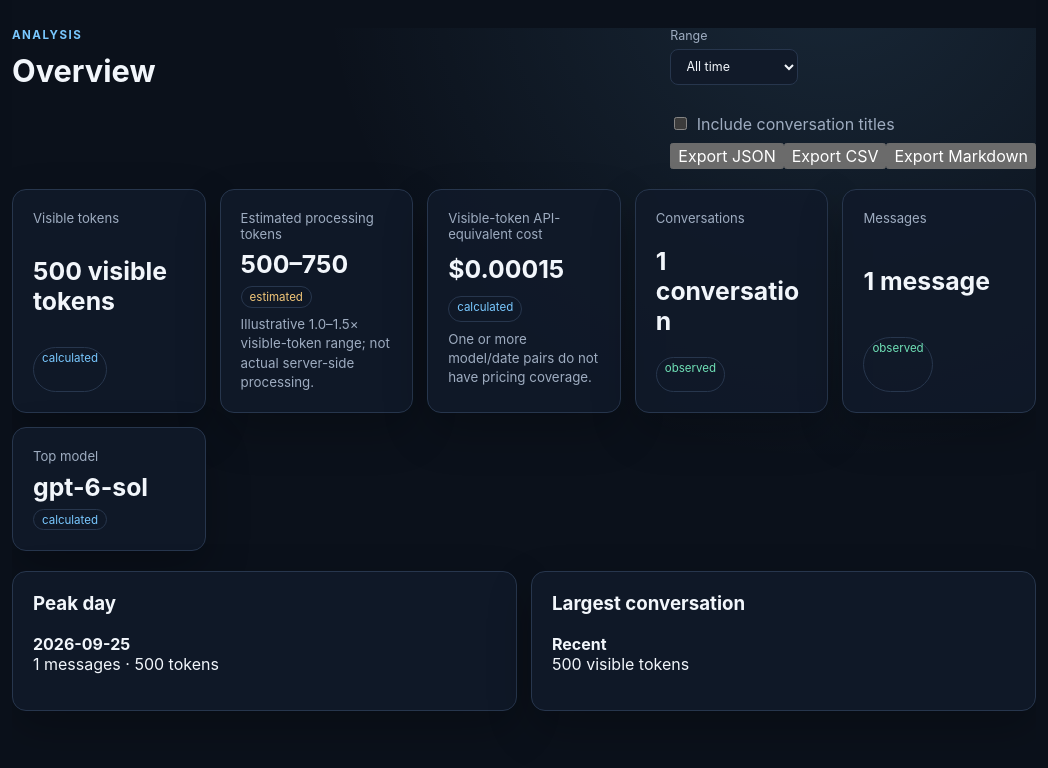
it: Codex review UI regressions › uses the selected date range when choosing the Overview top model
Expected: the text "gpt-6-sol" is shown, [33,472,148,502]
Select "7 days" in the dropdown named "Date range" at coordinates (734, 67), box [670,49,798,85]
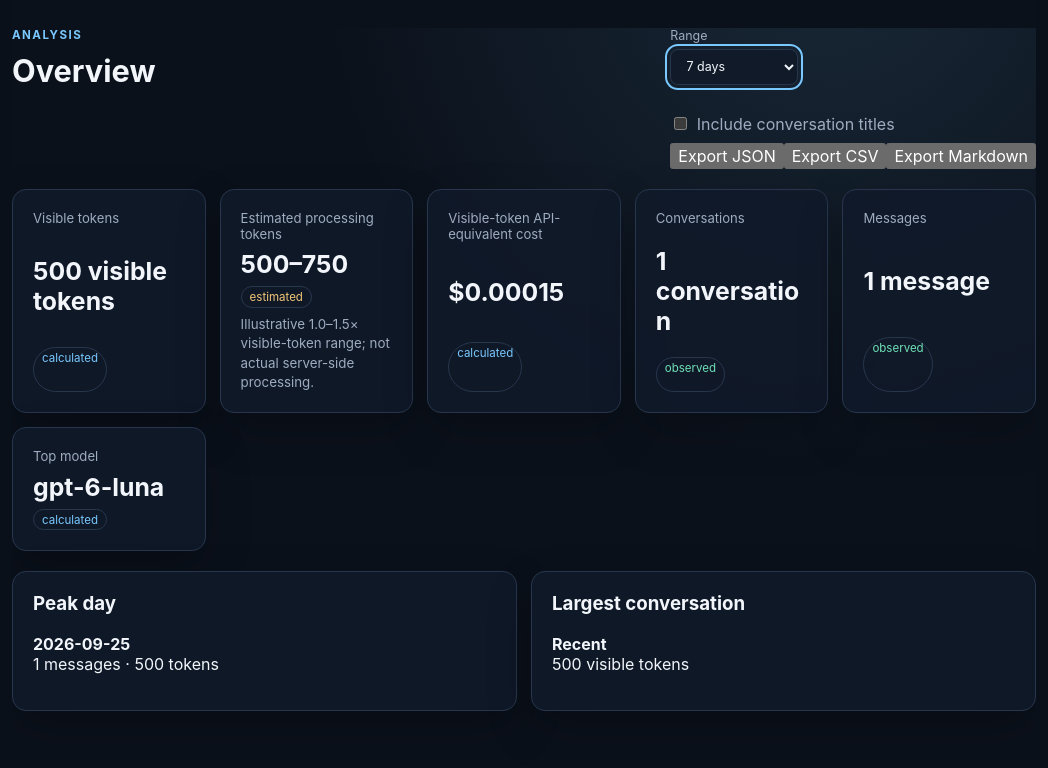
Expected: the text "gpt-6-luna" is shown, [33,472,185,502]
